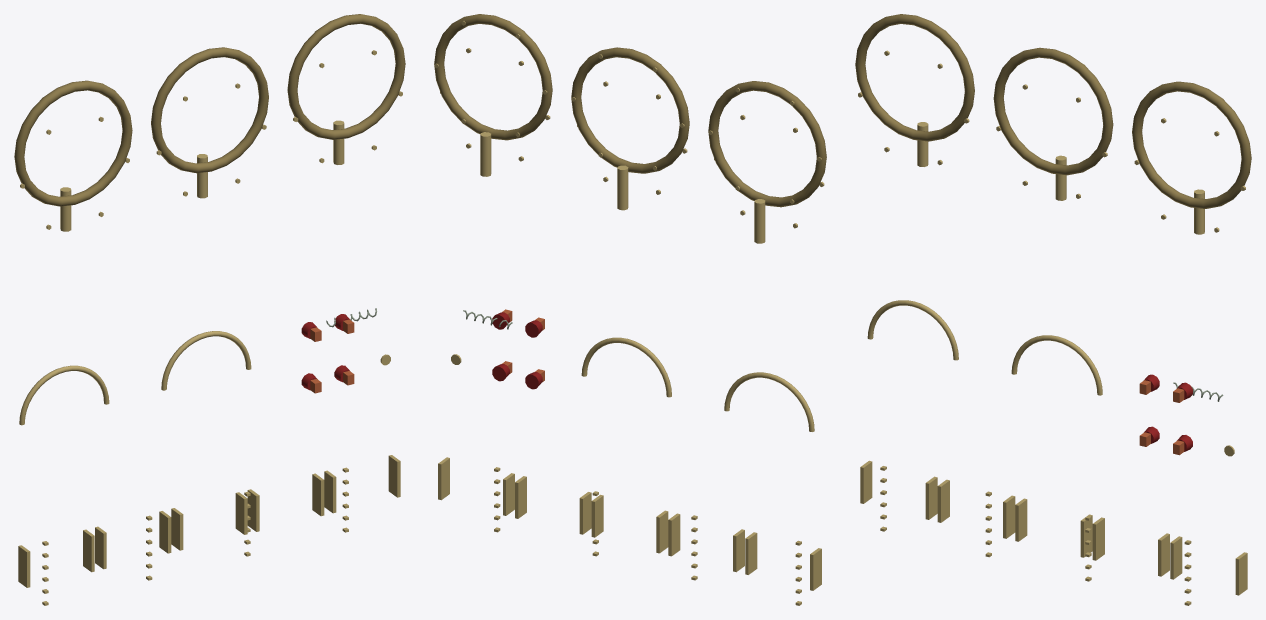
Rendered from control_panels.glb.
The picture shows the model from 3 angles, left to right: view 1: azimuth 30°, elevation 25°; view 2: azimuth 150°, elevation 25°; view 3: azimuth 330°, elevation 25°; orthographic projection.
Parts seen in each view (by area): view 1: reactor_hardware, right_panel_hardware; view 2: reactor_hardware, right_panel_hardware; view 3: reactor_hardware, right_panel_hardware.
Boxes of the visible parts, x1=… form: reactor_hardware: x1=14, y1=14, x2=405, y2=605; right_panel_hardware: x1=18, y1=50, x2=402, y2=587; reactor_hardware: x1=434, y1=14, x2=826, y2=605; right_panel_hardware: x1=438, y1=48, x2=824, y2=590; reactor_hardware: x1=855, y1=14, x2=1251, y2=605; right_panel_hardware: x1=858, y1=50, x2=1247, y2=595.
Size of the model in its own units: 1.43 by 1.8 by 0.129.
